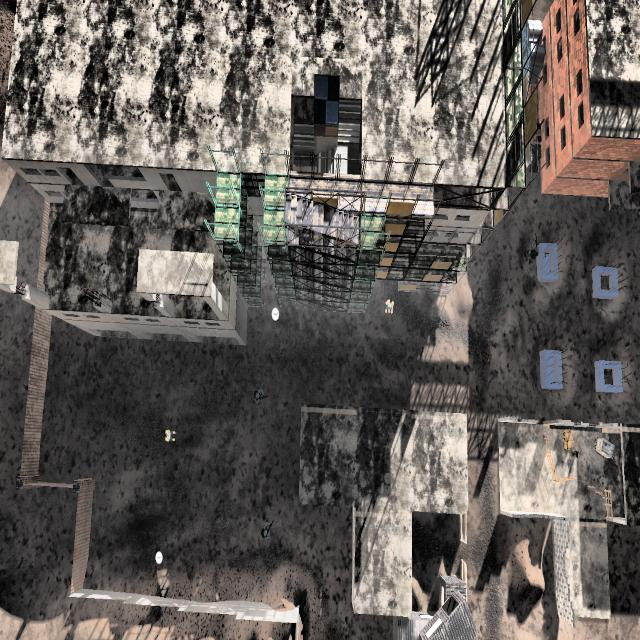bad: (526, 229, 544, 276), (256, 510, 274, 547), (251, 383, 266, 416)
good: (376, 291, 401, 324), (159, 419, 178, 451)
